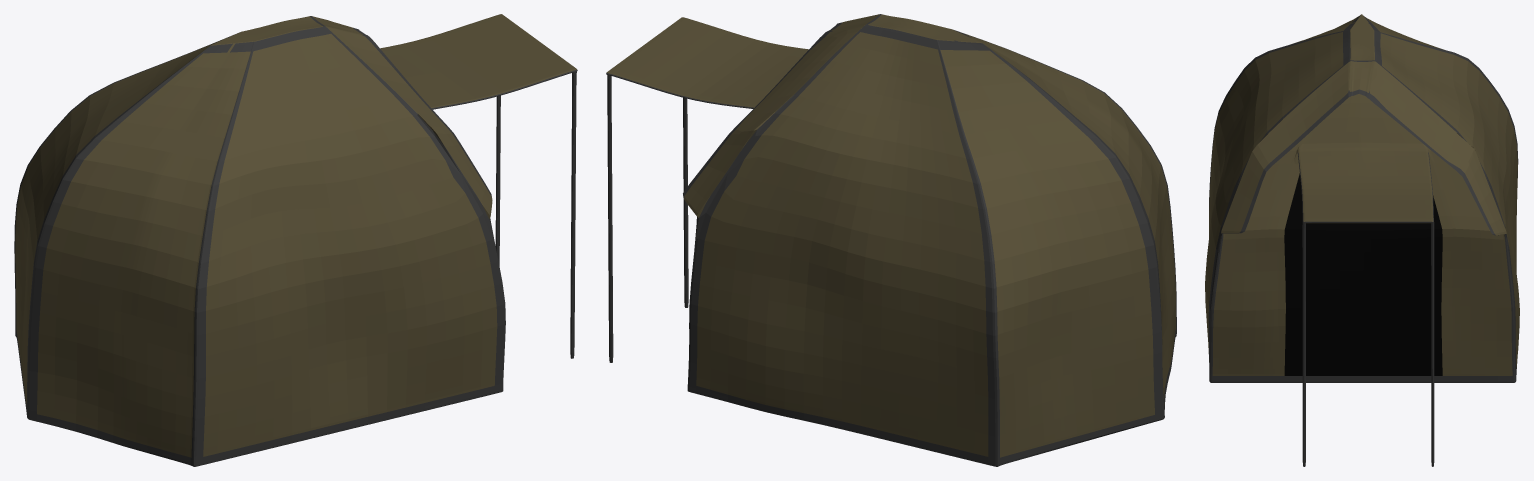
File: tent7.fbx
3 renders of one model, left to right at view 1: azimuth 30°, elevation 25°; view 2: azimuth 150°, elevation 25°; view 3: azimuth 270°, elevation 25°, orthographic. The views are drawn at different scales.
Visible parts, largest first — view 1: Cube.001; view 2: Cube.001; view 3: Cube.001.
Part boxes in pixels (x1=…): Cube.001: x1=14, y1=14, x2=577, y2=466; Cube.001: x1=606, y1=14, x2=1176, y2=466; Cube.001: x1=1205, y1=14, x2=1519, y2=466.
Bounding box in the file's own units: 332 × 227 × 205.
